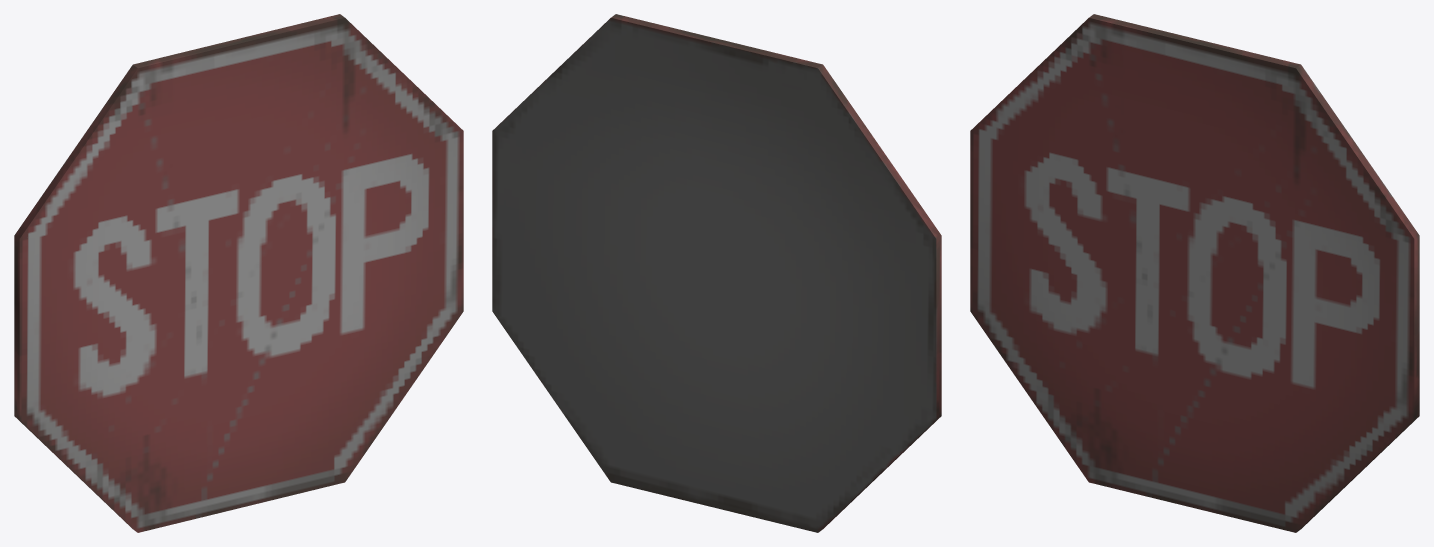
File: stopsign.fbx
3 renders of one model, left to right at view 1: azimuth 30°, elevation 25°; view 2: azimuth 150°, elevation 25°; view 3: azimuth 330°, elevation 25°, orthographic.
Parts seen in each view (by area): view 1: stopsign; view 2: stopsign; view 3: stopsign.
Part boxes in pixels (left/top/right/bottom): stopsign: left=14, top=14, right=463, bottom=532; stopsign: left=492, top=14, right=941, bottom=532; stopsign: left=970, top=14, right=1419, bottom=532.
Bounding box in the file's own units: 1.2 × 1.2 × 0.024.
